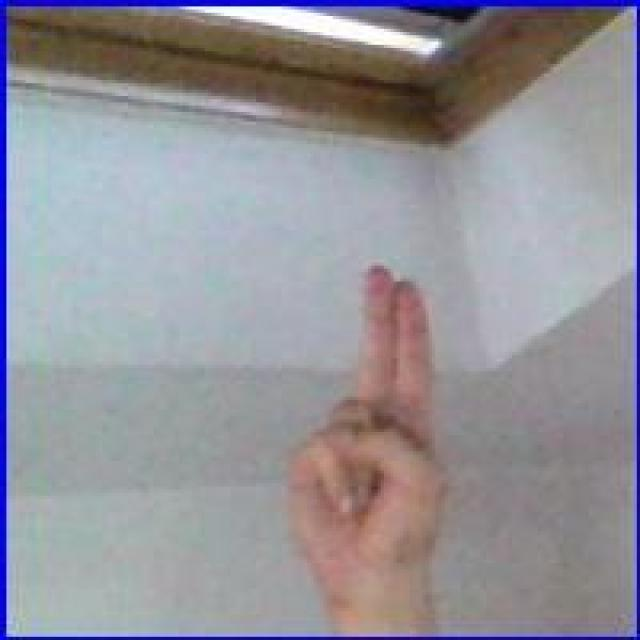U: (277, 254, 446, 606)
